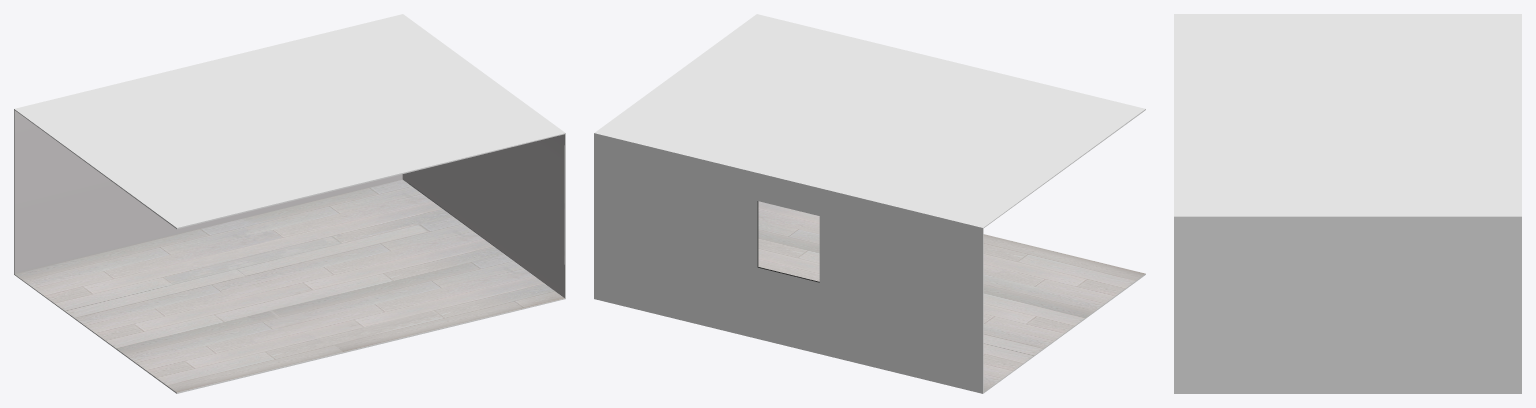
Rendered from piéce paper.FBX.
The picture shows the model from 3 angles, left to right: view 1: azimuth 30°, elevation 25°; view 2: azimuth 150°, elevation 25°; view 3: azimuth 270°, elevation 25°; orthographic projection. The views are drawn at different scales.
Visible parts, largest first — view 1: Box001; view 2: Box001; view 3: Box001.
Part boxes in pixels (left/top/right/bottom): Box001: left=14, top=14, right=565, bottom=393; Box001: left=594, top=14, right=1145, bottom=393; Box001: left=1174, top=14, right=1521, bottom=393.
Bounding box in the file's own units: 693 × 283 × 503.
1 material, 1 textured.
